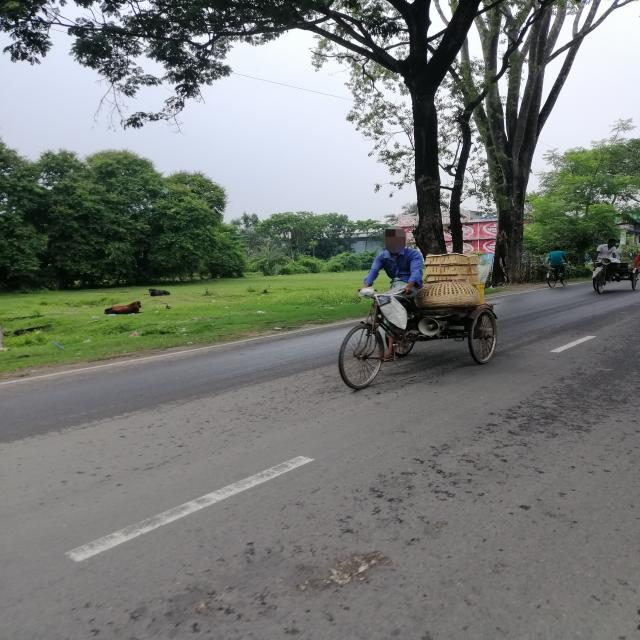Van: (330, 288, 502, 404)
